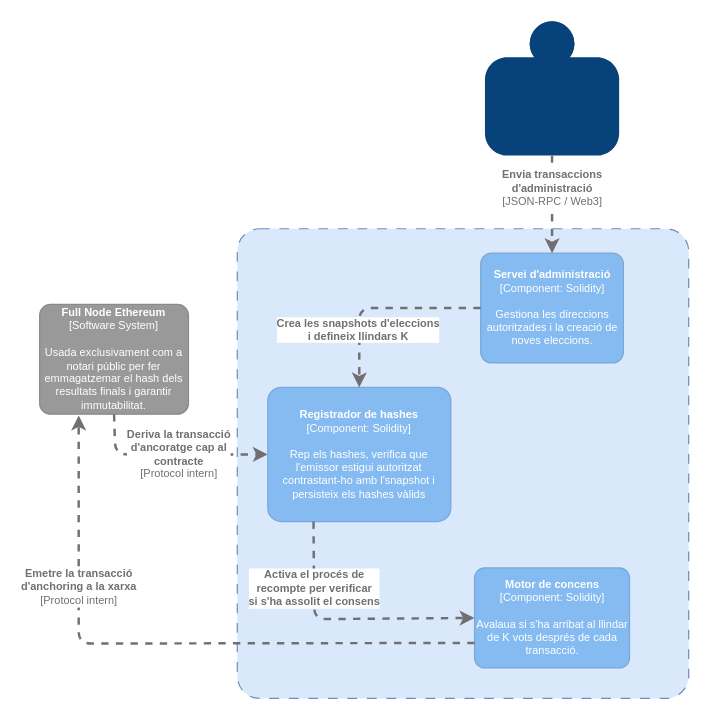
Some shapes in this 710 by 720 pixel diagram are drawn without their labels. Each missing label, with the box of its shape:
Administrador [Person / entity] Administrador de nodes: (484, 21, 619, 155)
Contracte intel·ligent Solidity: (236, 228, 689, 698)
